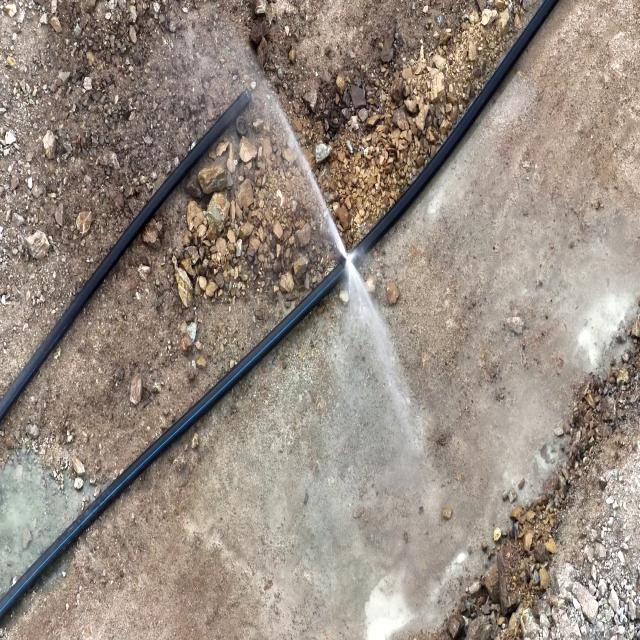leak: (257, 75, 398, 374)
